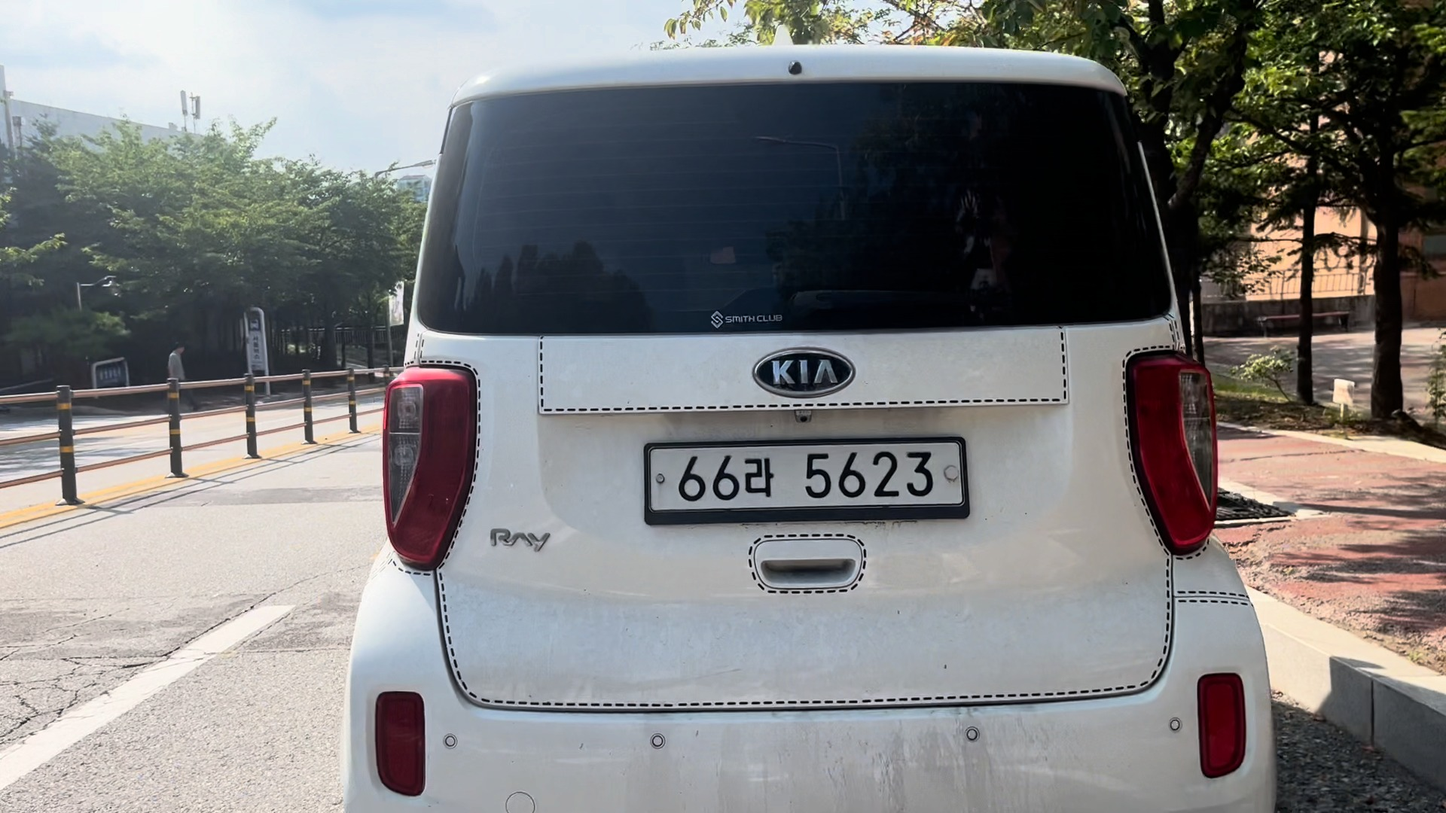car_emblem: (752, 346, 856, 395)
license_plate: (645, 438, 968, 524)
tail_light: (382, 367, 477, 569), (1129, 353, 1217, 553), (374, 691, 425, 795), (1197, 673, 1246, 777)
